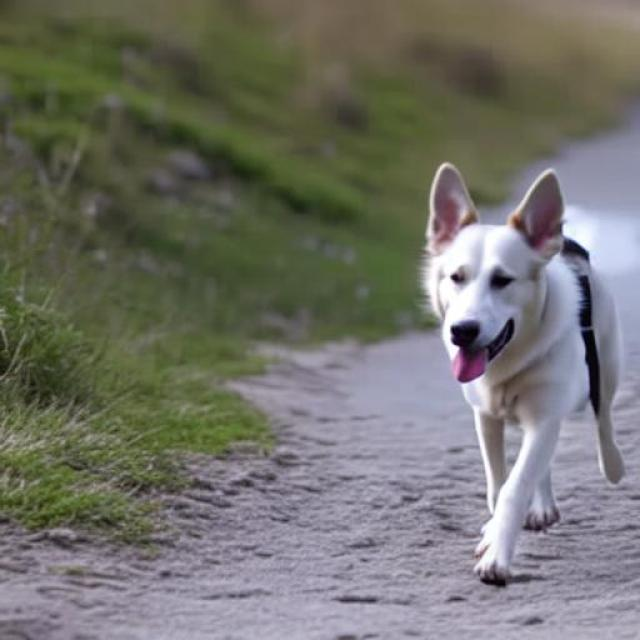Dog: (422, 163, 624, 583)
